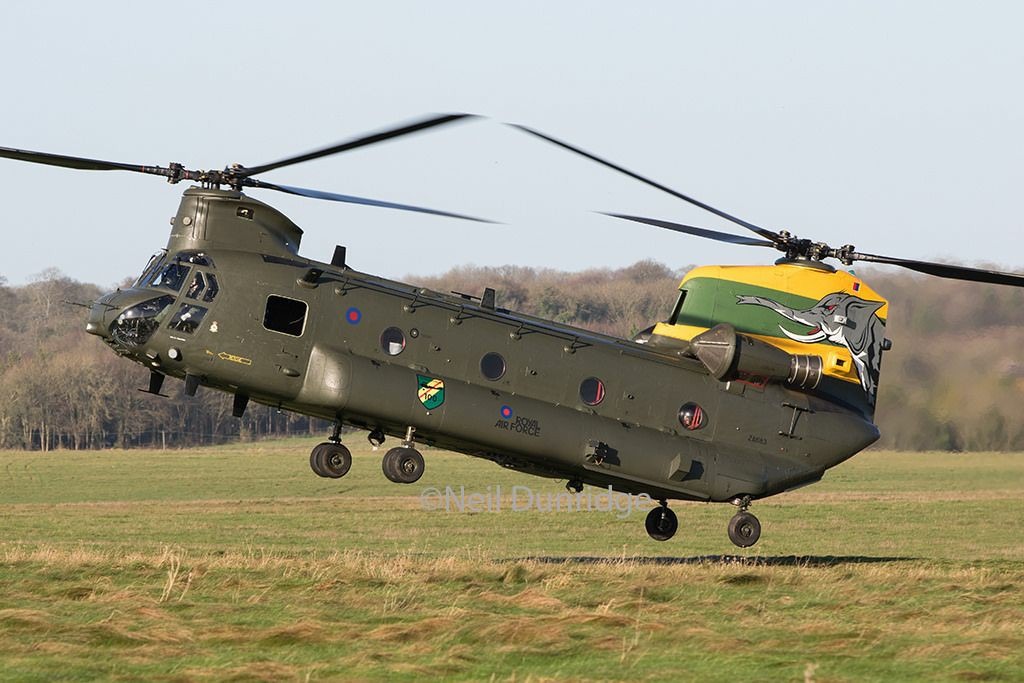chinook: (87, 104, 920, 575)
